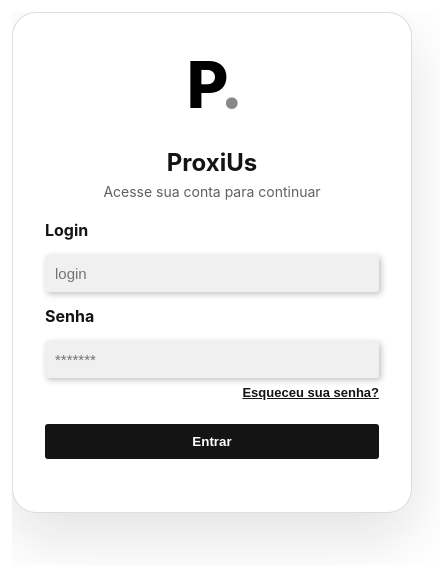
Scenario: persists the session and navigates only after successfully loading user data
Type "usuario" into the field with placeholder "login" at (212, 273), box [45,255,379,292]
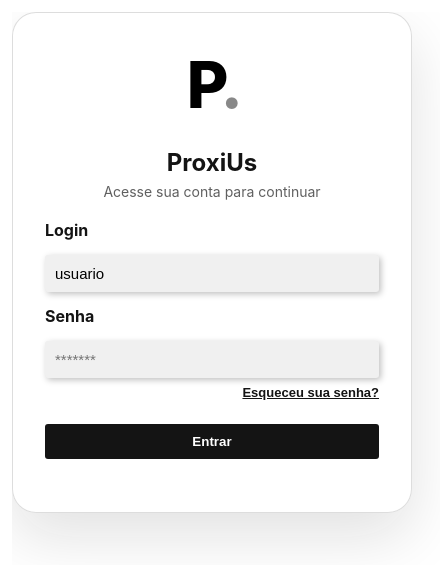
Type "senha" into the password field with placeholder "*******" at (212, 359), box [45,341,379,378]
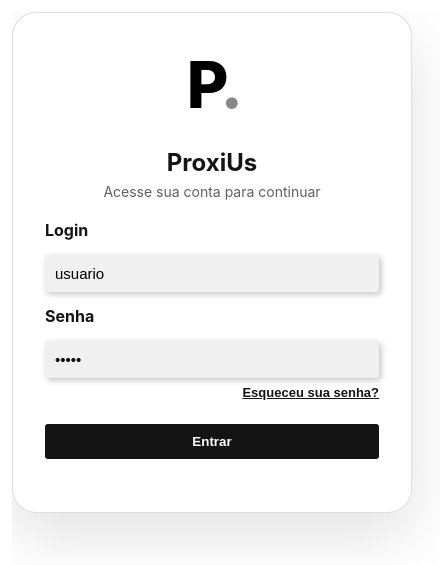
Click the button "Entrar" at (212, 441), box [45,424,379,458]
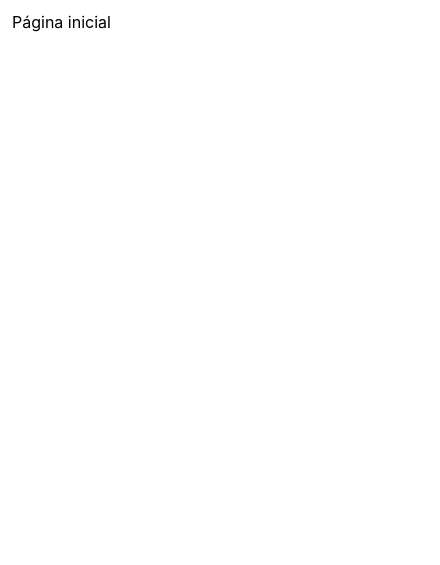
Expected: the text "Página inicial" is shown, [12,12,111,32]
